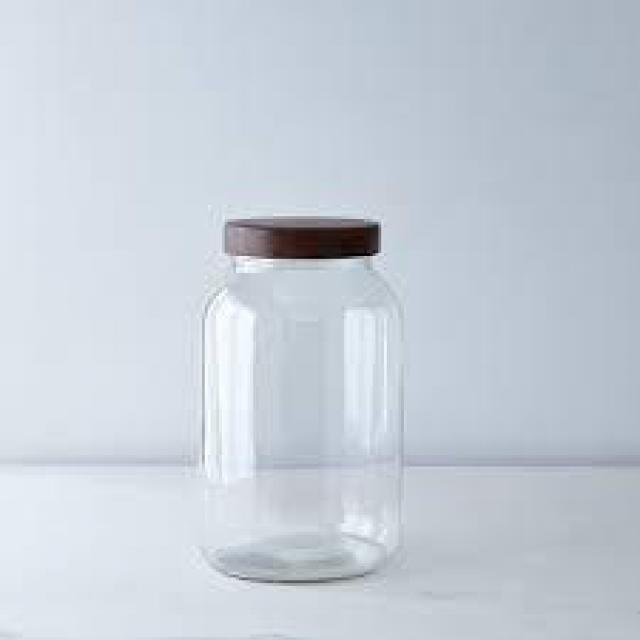glass: (198, 208, 408, 588)
